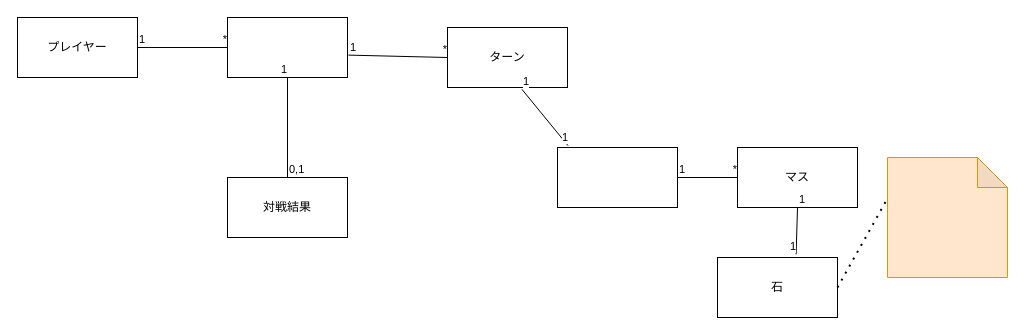
Some shapes in this 1025 by 335 pixel diagram are drawn without their labels. The box of each missing label's shape, as (x1, y1, x2, y2) in pixels:
対戦(開始): (226, 16, 348, 78)
盤面: (556, 146, 678, 208)
石の種類 ・空 ・黒 ・白: (886, 156, 1008, 278)
